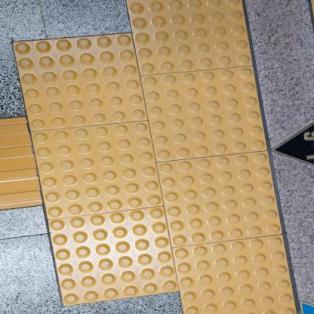Podoctatil: (0, 0, 306, 313)
